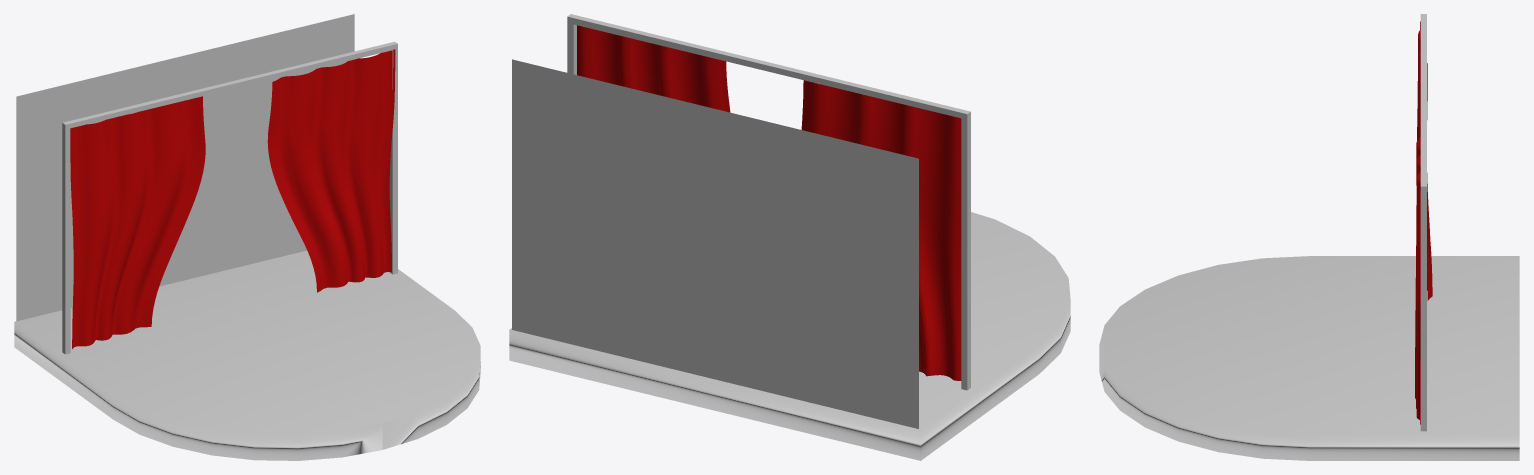
The model's file is stage.obj.
The picture shows the model from 3 angles, left to right: view 1: azimuth 30°, elevation 25°; view 2: azimuth 150°, elevation 25°; view 3: azimuth 270°, elevation 25°; orthographic projection. The views are drawn at different scales.
Parts seen in each view (by area): view 1: stage, backstage, cloth01, cloth02, frame; view 2: backstage, stage, cloth01, cloth02, frame; view 3: stage, frame, cloth02, cloth01.
Part boxes in pixels (x1,y1,x2,y2): stage: (14, 250, 480, 460); backstage: (16, 14, 354, 321); cloth01: (70, 96, 205, 348); cloth02: (267, 49, 395, 292); frame: (62, 41, 397, 354); backstage: (512, 59, 918, 428); stage: (509, 212, 1070, 460); cloth01: (801, 80, 961, 380); cloth02: (577, 25, 730, 112); frame: (567, 14, 970, 390); stage: (1099, 256, 1519, 460); frame: (1420, 14, 1426, 431); cloth02: (1415, 127, 1420, 424); cloth01: (1417, 21, 1432, 300).
Size of the model in its own units: 7 by 4.99 by 7.
